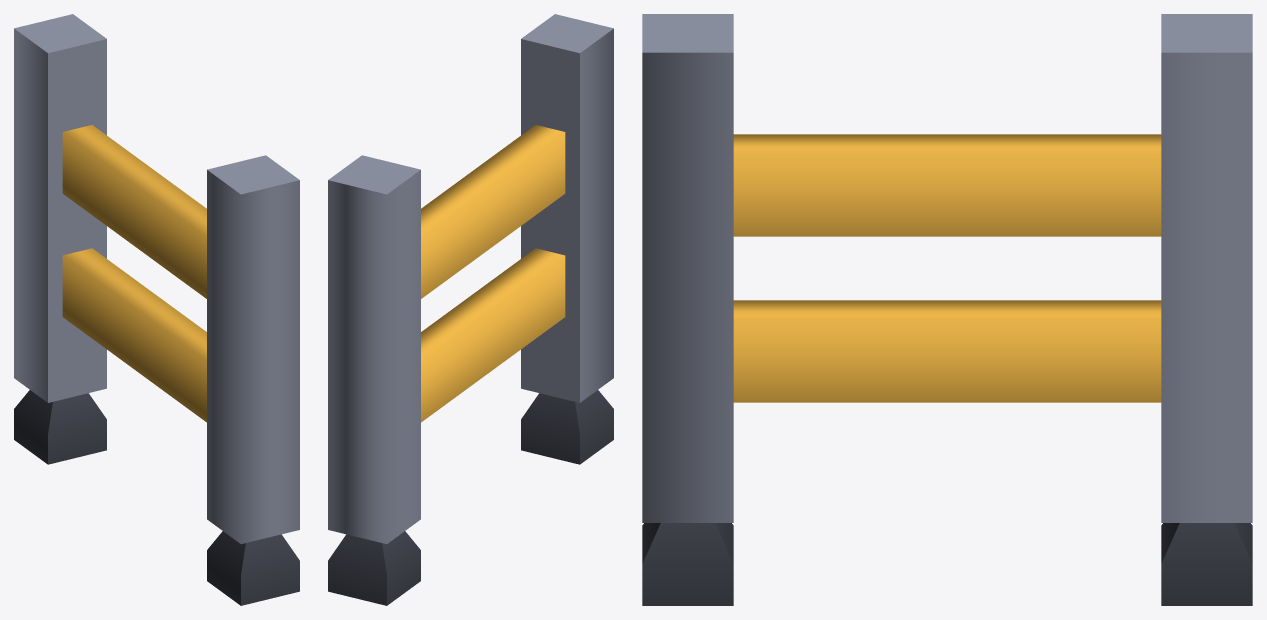
File: StructureYellowMedium-transformed.glb
The picture shows the model from 3 angles, left to right: view 1: azimuth 30°, elevation 25°; view 2: azimuth 150°, elevation 25°; view 3: azimuth 270°, elevation 25°; orthographic projection. The views are drawn at different scales.
Visible parts, largest first — view 1: structure-yellow-medium; view 2: structure-yellow-medium; view 3: structure-yellow-medium.
Part boxes in pixels (box(x1,y1,x2,y2)): structure-yellow-medium: box(14, 14, 299, 605); structure-yellow-medium: box(328, 14, 613, 605); structure-yellow-medium: box(642, 14, 1252, 605).
Bounding box in the file's own units: 0.15 × 1 × 1.
